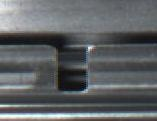oneu: (43, 42, 99, 96)
